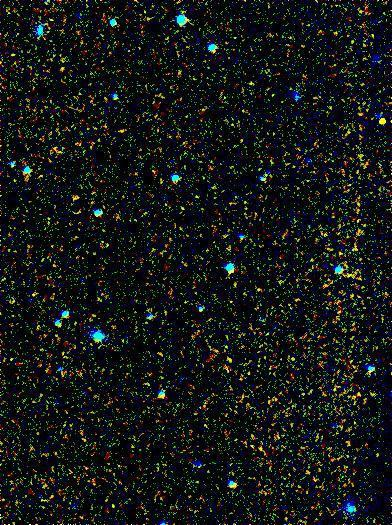star: (366, 106, 392, 136)
